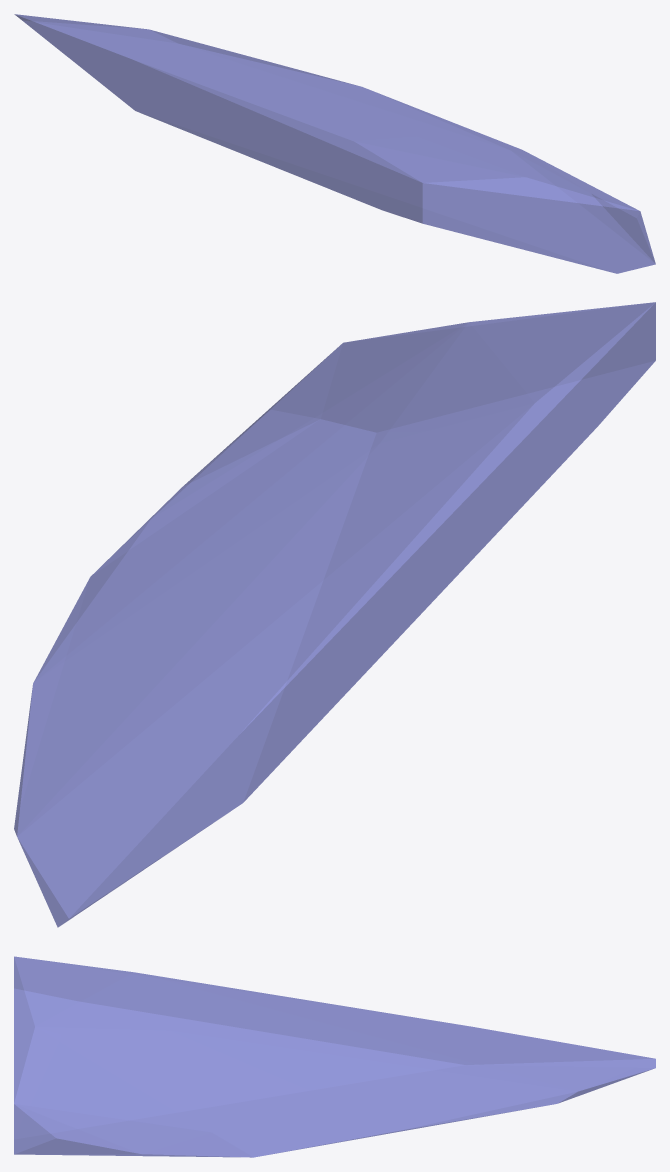
The picture shows the model from 3 angles, top to bottom: view 1: azimuth 30°, elevation 25°; view 2: azimuth 150°, elevation 25°; view 3: azimuth 270°, elevation 25°; orthographic projection. The views are drawn at different scales.
Visible parts, largest first — view 1: Shape_IndexedFaceSet.028_Shape_IndexedFaceSet.626; view 2: Shape_IndexedFaceSet.028_Shape_IndexedFaceSet.626; view 3: Shape_IndexedFaceSet.028_Shape_IndexedFaceSet.626.
Part boxes in pixels (box(x1,y1,x2,y2)): Shape_IndexedFaceSet.028_Shape_IndexedFaceSet.626: box(14, 14, 655, 273); Shape_IndexedFaceSet.028_Shape_IndexedFaceSet.626: box(14, 302, 655, 927); Shape_IndexedFaceSet.028_Shape_IndexedFaceSet.626: box(14, 956, 655, 1157).
Size of the model in its own units: 0.0596 by 0.0317 by 0.1695.
